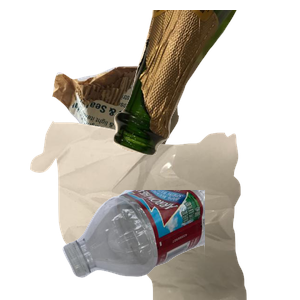cardboard: (50, 62, 228, 226)
glass: (111, 10, 300, 158)
plastic: (60, 190, 300, 280)
trash: (28, 120, 267, 300)
